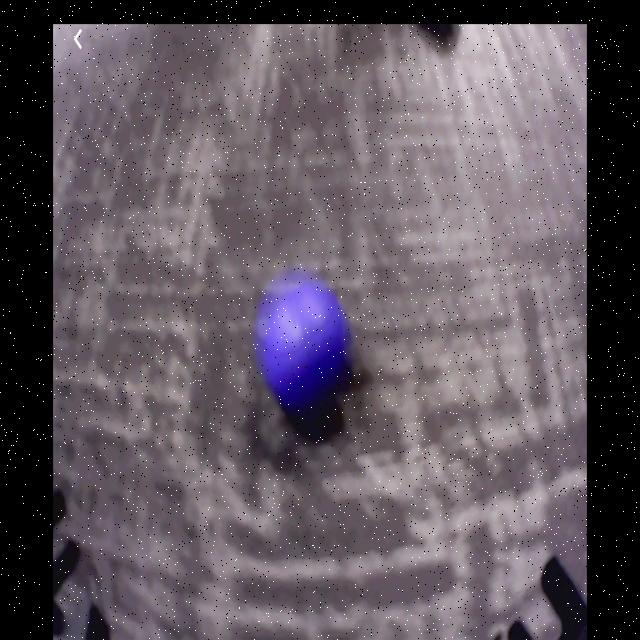ball: (263, 286, 344, 406)
